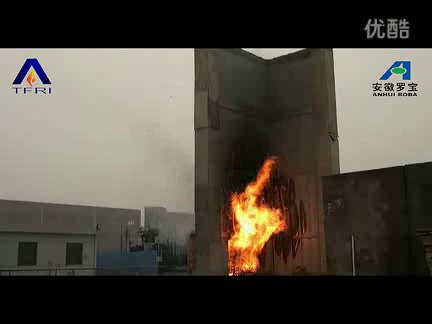fire: (222, 148, 290, 278)
